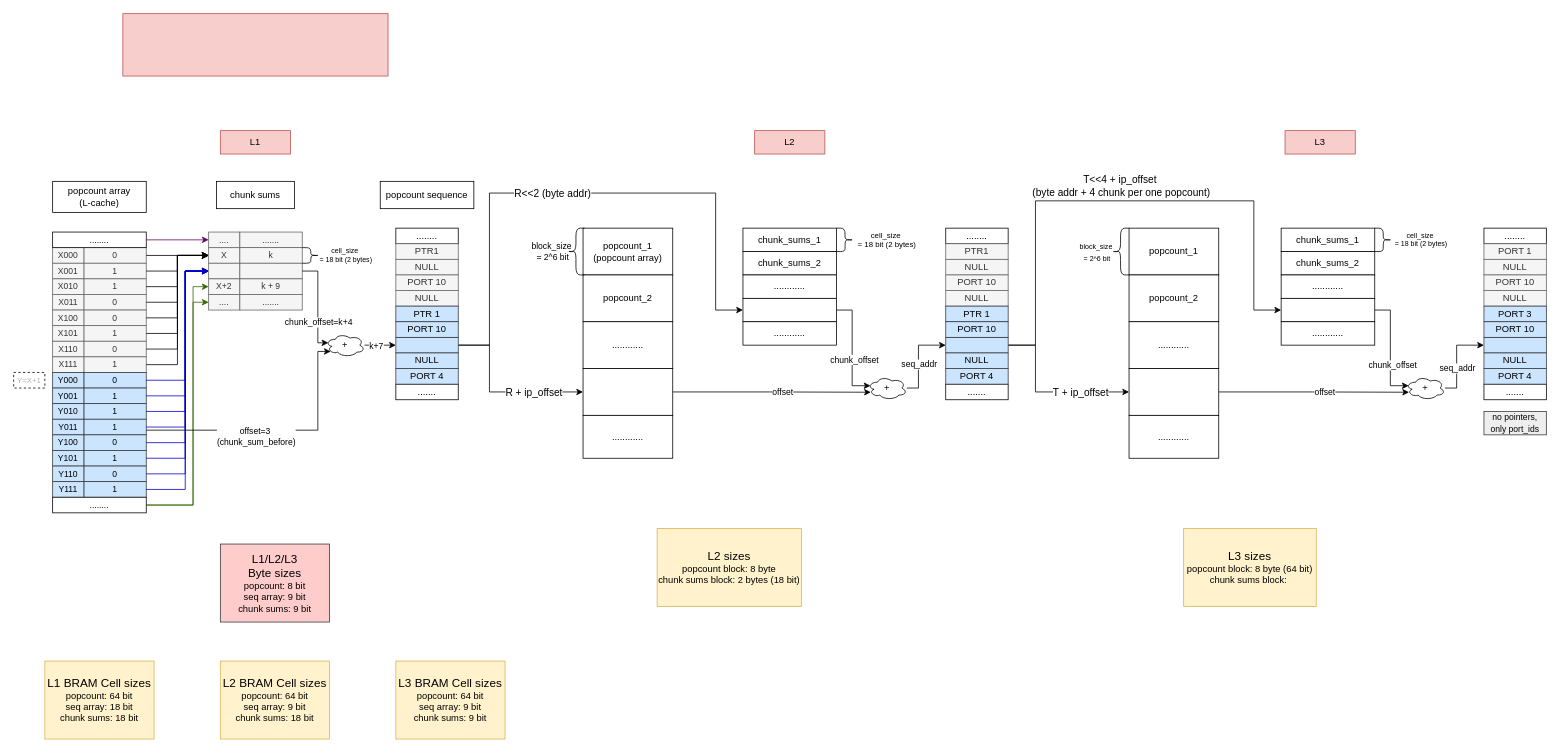
Image size: 1560x753. Some labels were removed from this diagram. Each missing label, with the box of its shape:
chunk_sums_r: (742, 298, 837, 322)
chunk_sums_t: (1280, 298, 1375, 322)
k + 4: (239, 262, 302, 279)
popcount_r: (582, 368, 673, 415)
popcount_t: (1128, 368, 1219, 415)
PORT 2: (1483, 337, 1546, 353)
PTR R: (395, 337, 458, 353)
PTR T: (945, 337, 1008, 353)
THIS IS CONCEPT. CELL/BLOCK SIZES ARE NOT ALWAYS REAL: (122, 13, 388, 76)
X+1: (208, 262, 240, 279)
